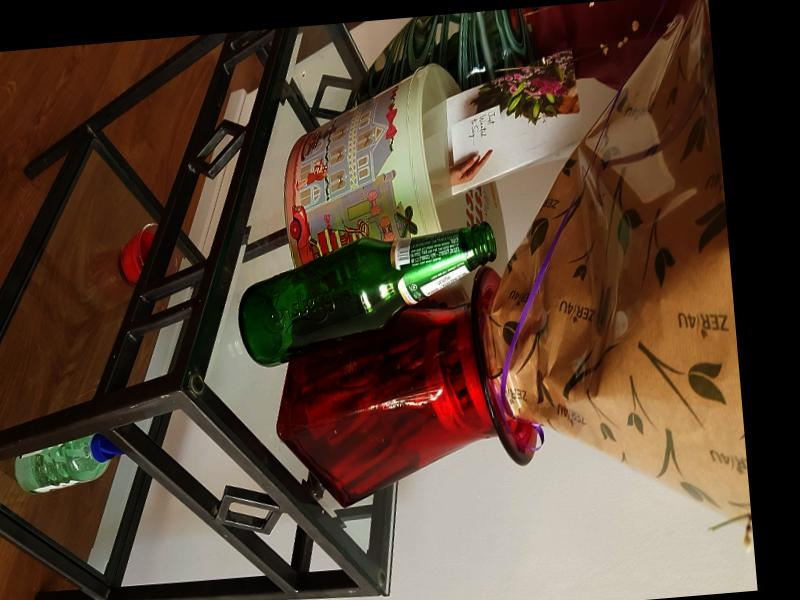Beer: (231, 223, 505, 367)
